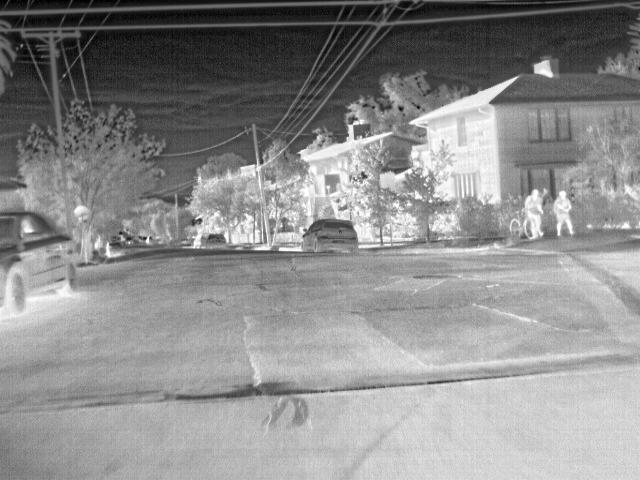car: (0, 209, 83, 319), (301, 217, 357, 258), (202, 234, 222, 250), (108, 242, 122, 256), (124, 235, 137, 246)
person: (525, 190, 543, 236), (554, 191, 571, 238)
